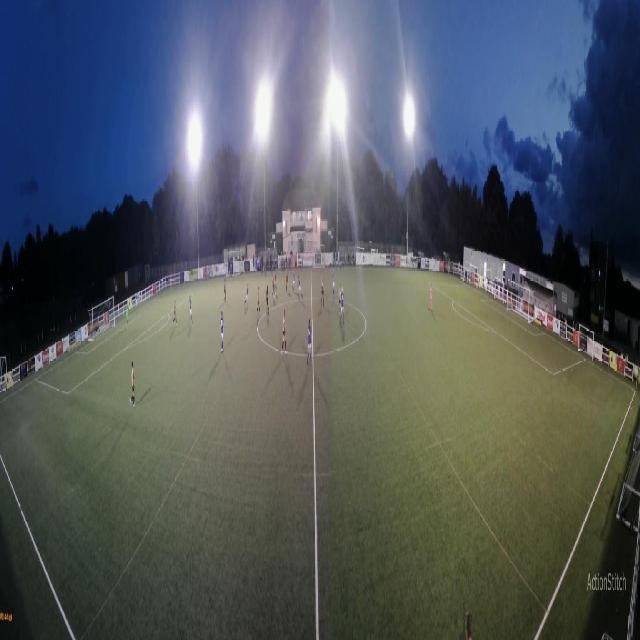ball: (274, 281, 276, 287)
player: (281, 308, 288, 357), (129, 360, 136, 408), (219, 311, 226, 353), (307, 318, 313, 365), (340, 286, 345, 325), (189, 295, 194, 326), (257, 285, 262, 315), (173, 300, 178, 327), (298, 275, 303, 301), (244, 283, 249, 308), (266, 285, 270, 315), (320, 277, 324, 307), (429, 282, 433, 312), (332, 270, 336, 298), (272, 271, 276, 298), (339, 282, 342, 316), (291, 269, 295, 293), (126, 304, 129, 330), (224, 277, 227, 303), (286, 268, 289, 293), (274, 274, 277, 296)
